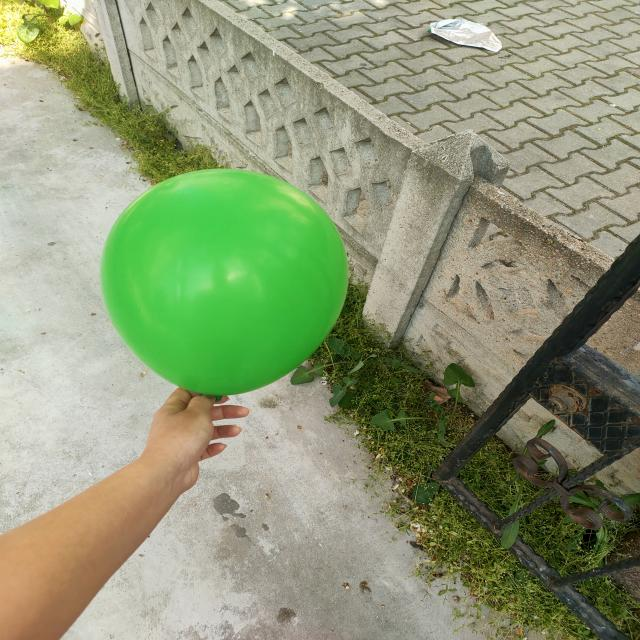green: (102, 170, 351, 399)
